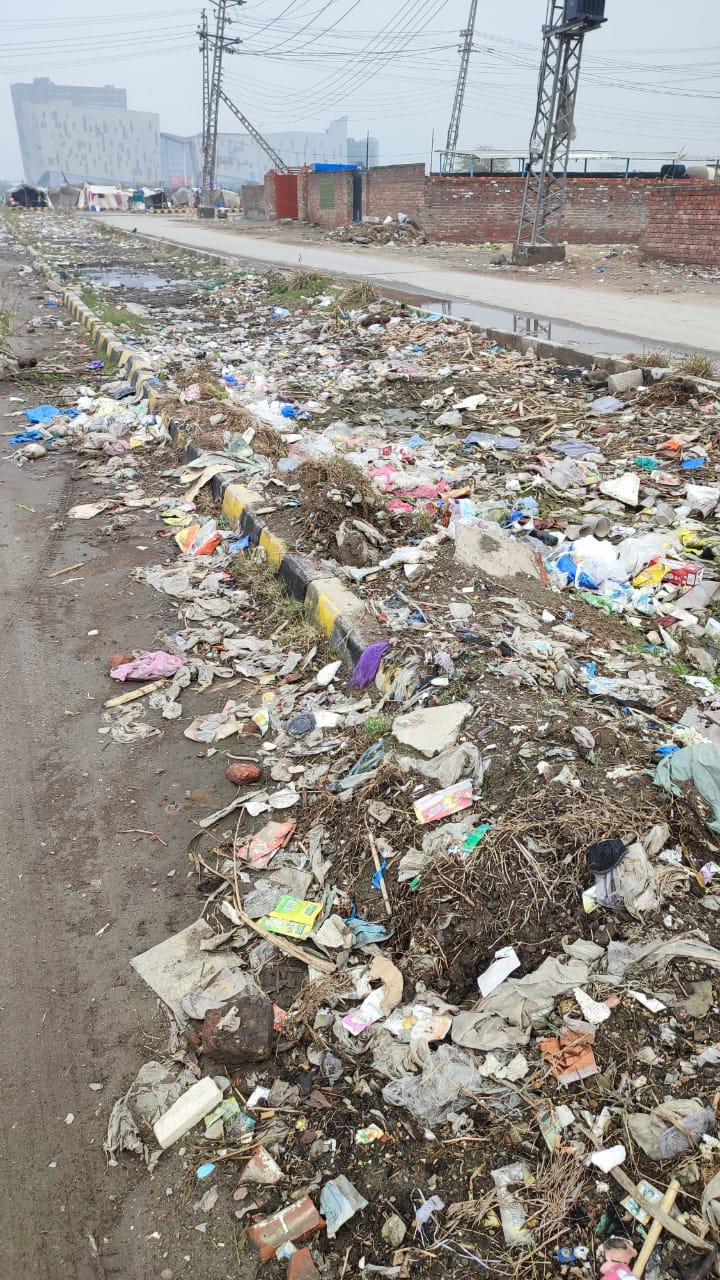garbage: (91, 301, 720, 1280)
